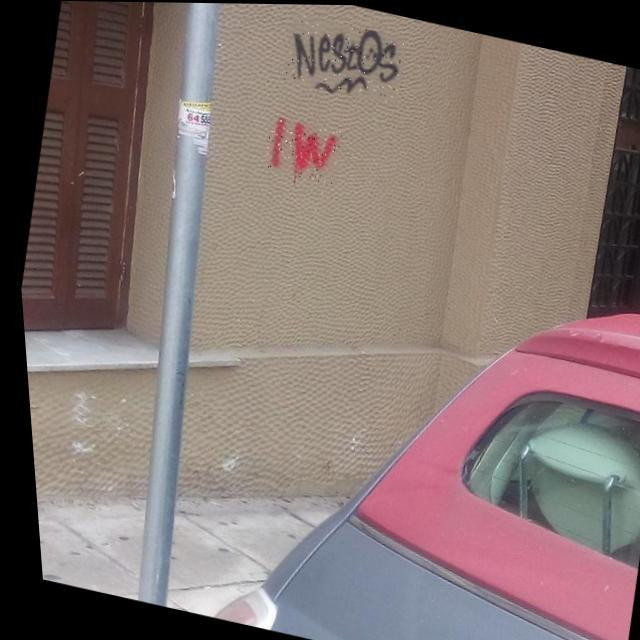-: (278, 12, 409, 105), (258, 114, 344, 184)
